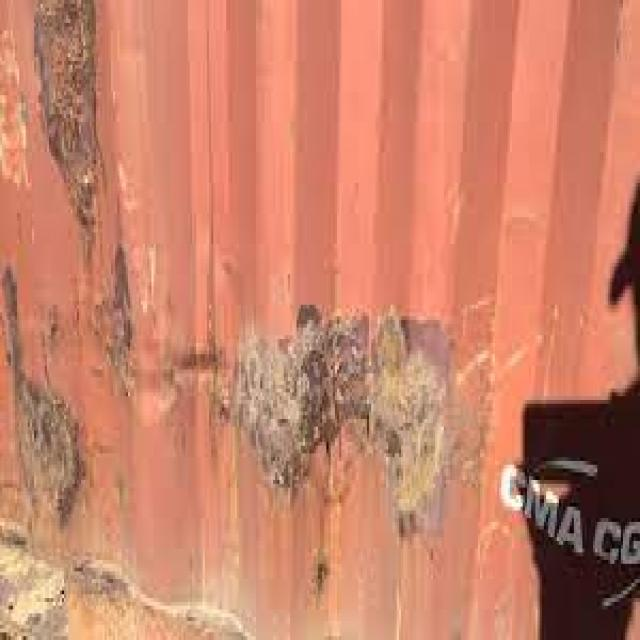rust: (148, 304, 493, 615), (1, 260, 143, 640), (34, 1, 112, 260), (81, 234, 140, 410), (1, 20, 38, 201)
